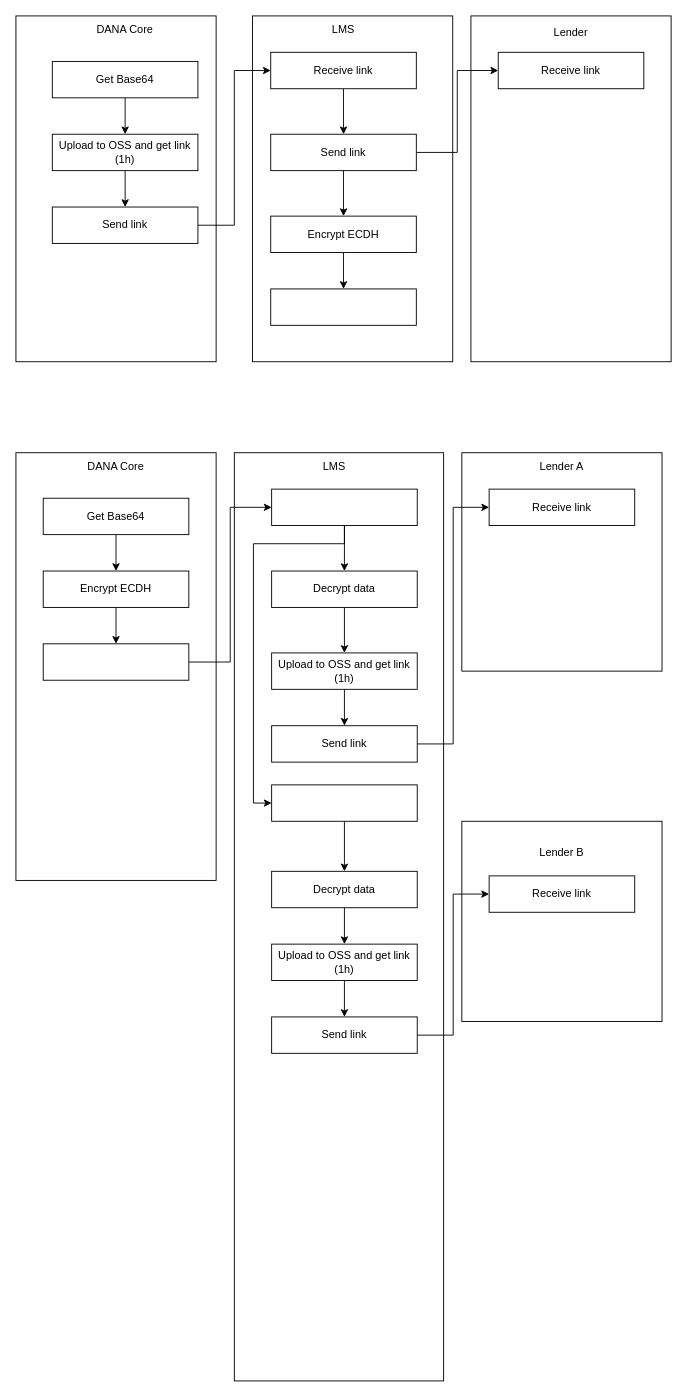
This 687x1397 diagram has some shape labels left out. The shapes that lost their labels are listed below. From the top down, each one's centre as x and y in pixels, then its label:
the point at 343,306: Store in DB
the point at 344,507: Receive encrypted data
the point at 115,661: Send encrypted data
the point at 344,802: Store to DB
